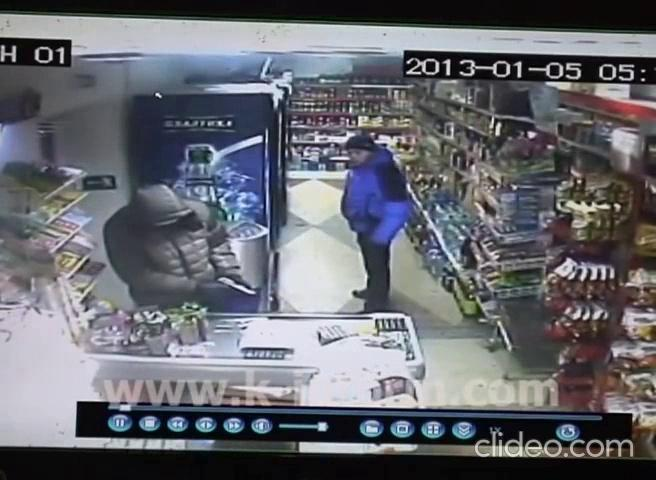person: (103, 183, 251, 313), (339, 132, 411, 313)
pistol: (215, 274, 257, 300)
